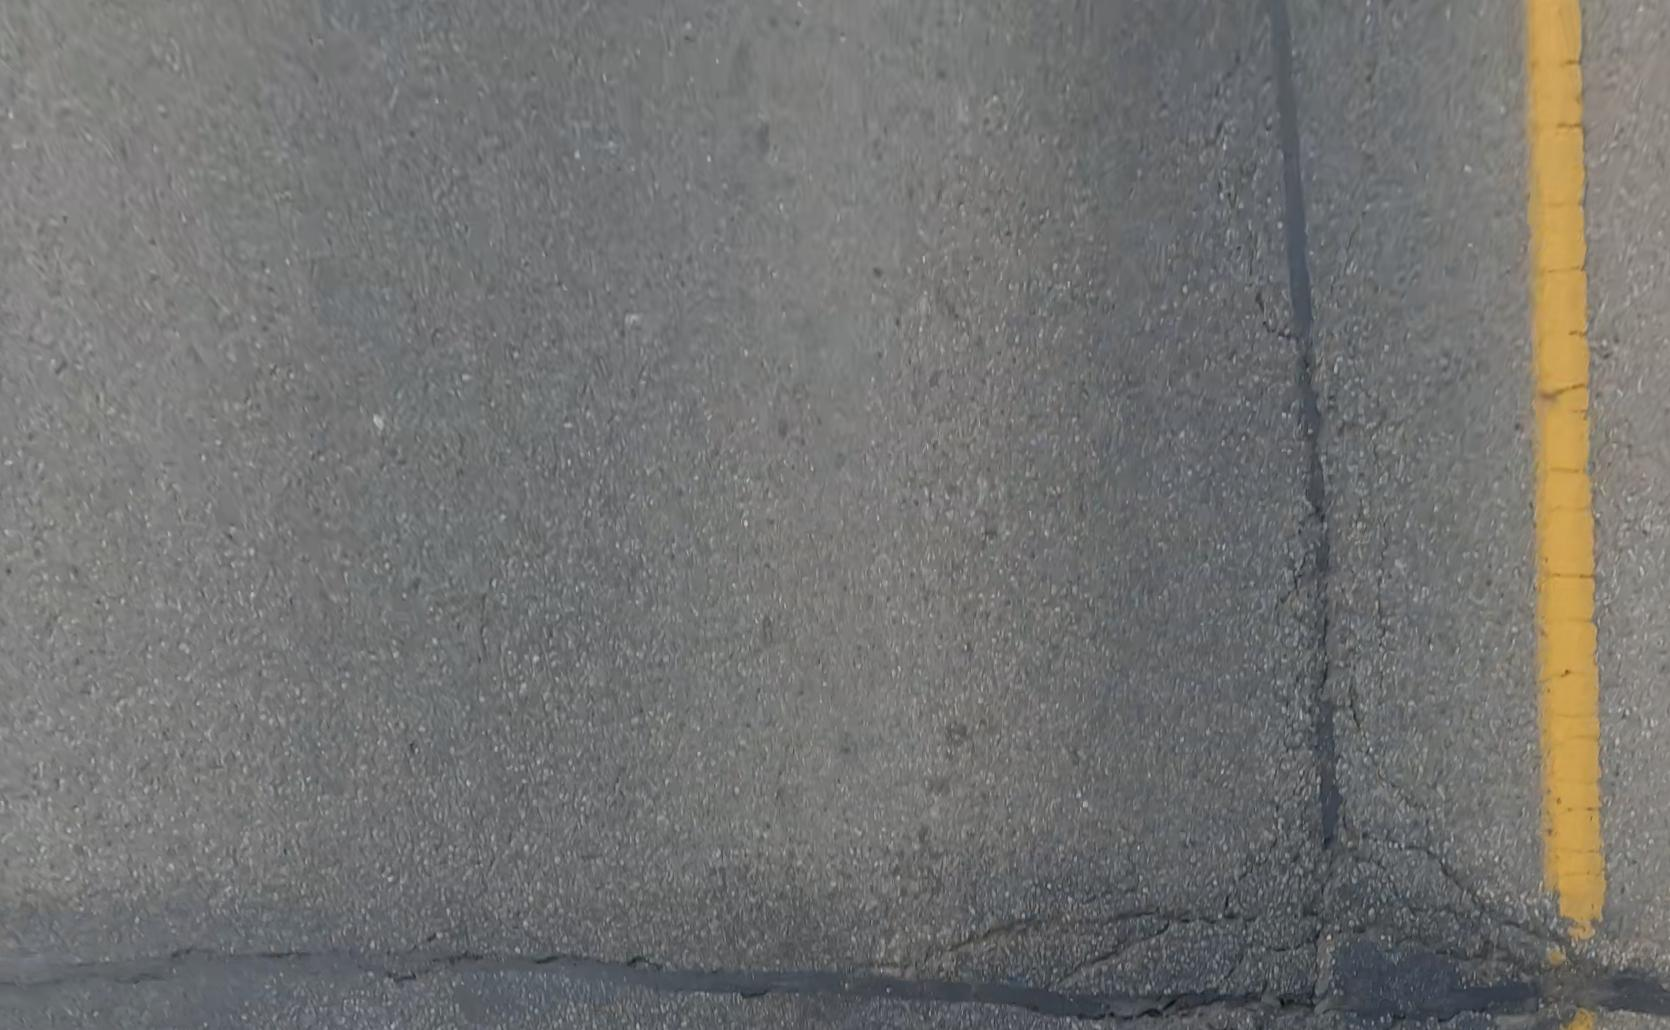pothole: (983, 831, 1670, 1030)
